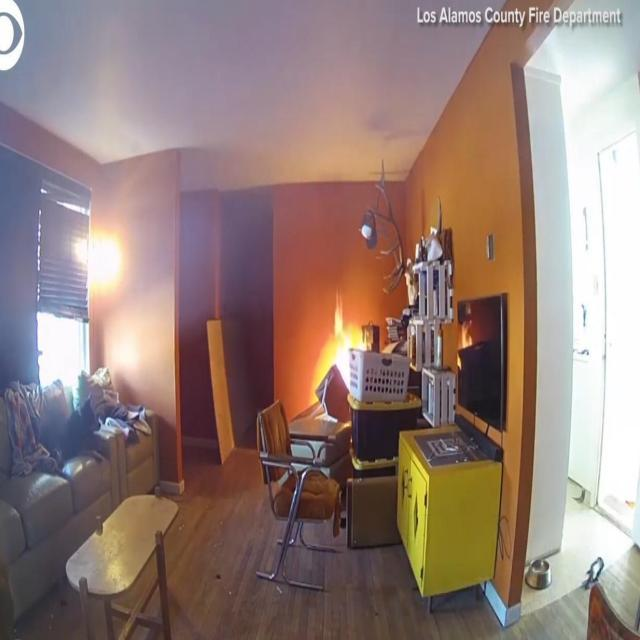smoke: (312, 320, 364, 405)
